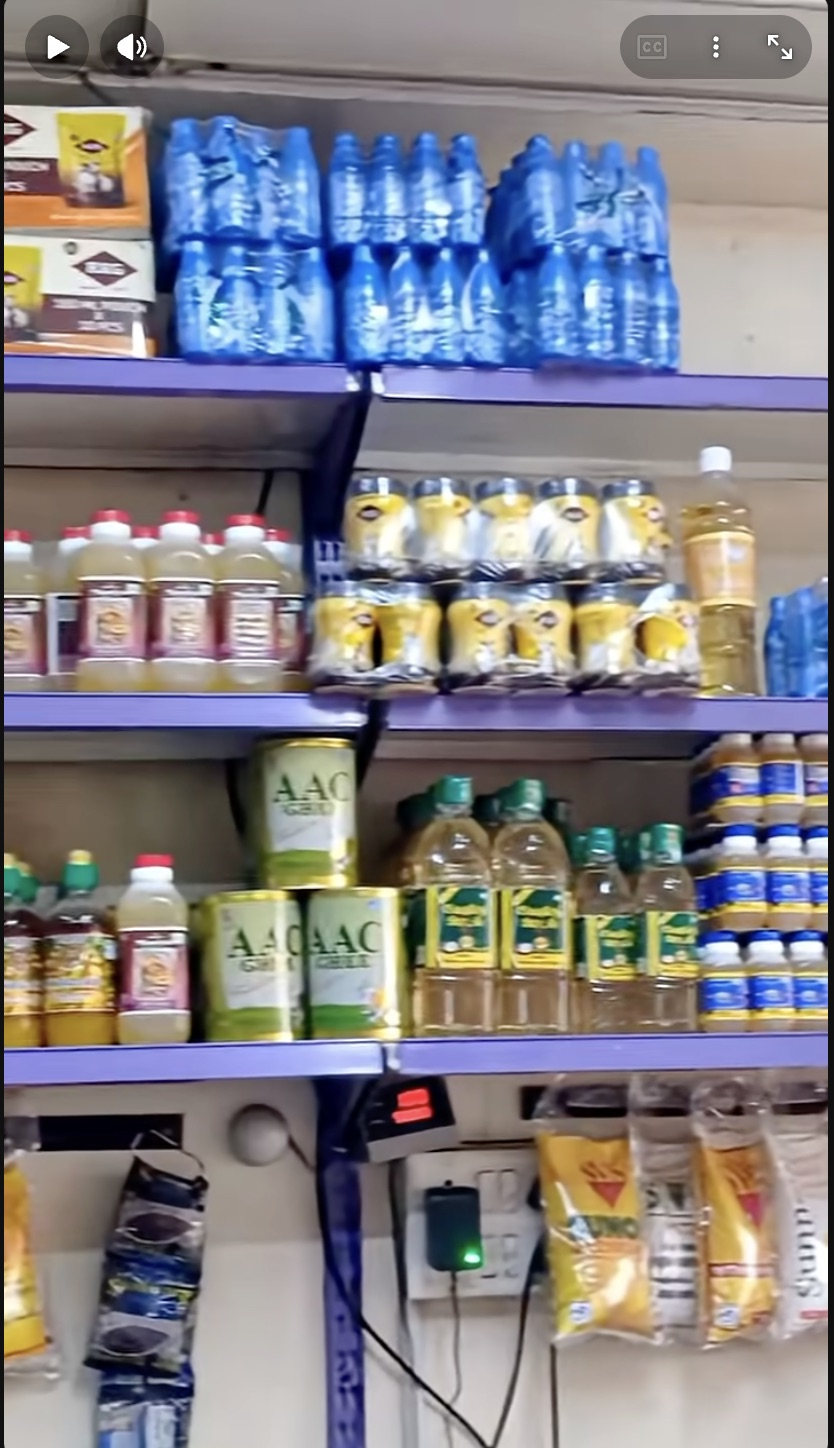parachute: (4, 104, 158, 355)
